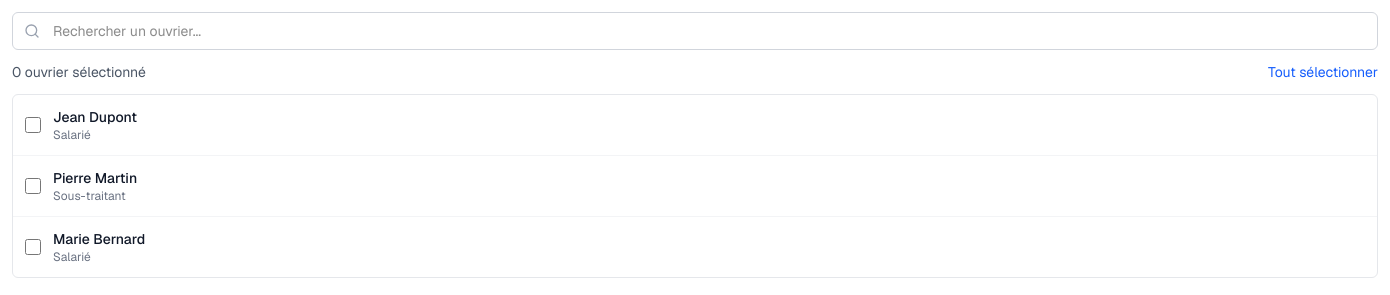
Test case: SelectionOuvriersChantier › filtre les ouvriers par prénom
Type "Pierre" into the field with placeholder "Rechercher un ouvrier..." at (695, 31), box [12,12,1378,50]
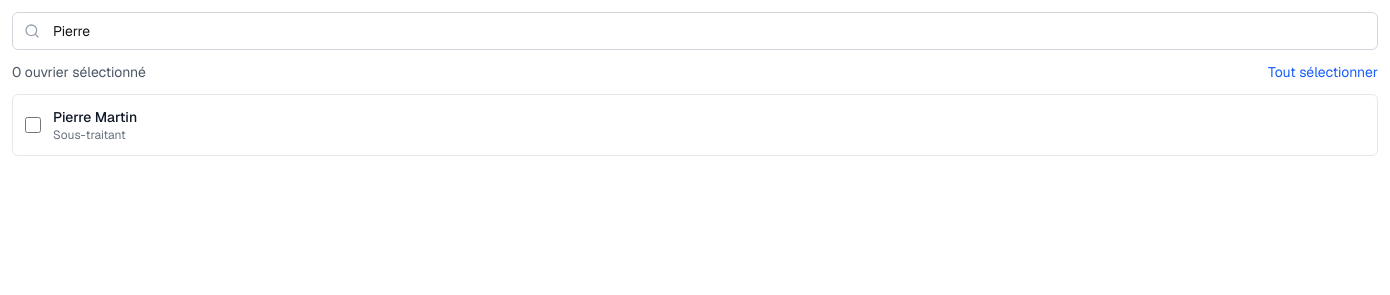
Check: the text "Pierre Martin" is shown, box [53,107,137,127]
Check: the text "Jean Dupont" is gone
Check: the text "Marie Bernard" is gone
